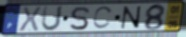8: (144, 3, 167, 32)
C: (92, 5, 115, 31)
N: (121, 6, 143, 30)
S: (69, 5, 91, 32)
U: (40, 5, 66, 33)
X: (18, 6, 43, 33)
